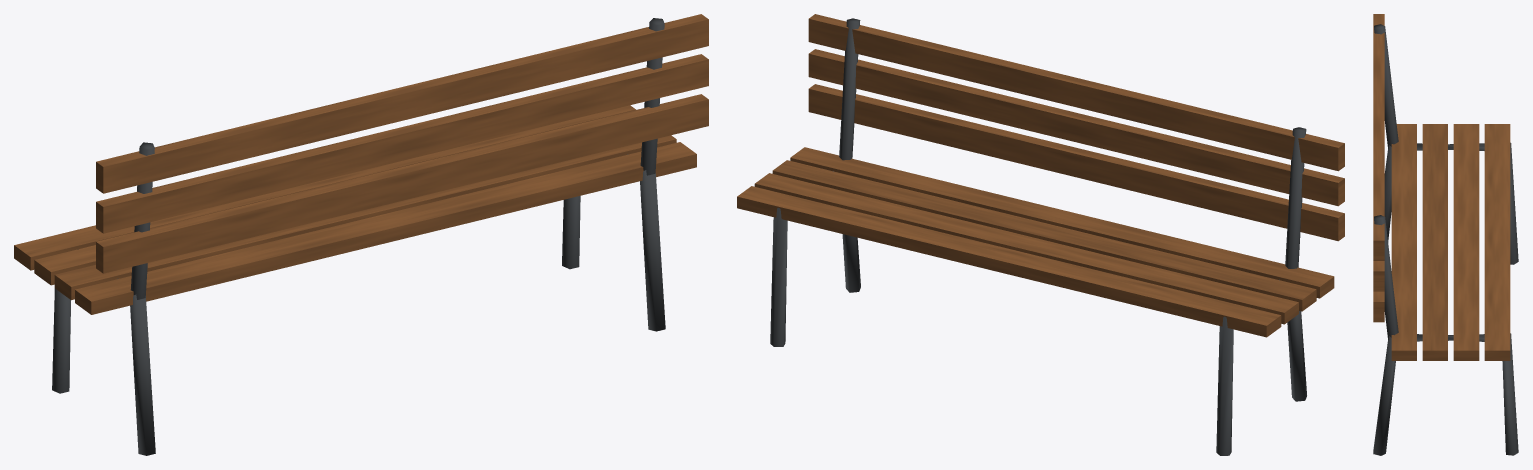
The model's file is bench.glb.
3 views of the same model, side by side, from view 1: azimuth 30°, elevation 25°; view 2: azimuth 150°, elevation 25°; view 3: azimuth 270°, elevation 25° (orthographic). The views are drawn at different scales.
Visible parts, largest first — view 1: bench; view 2: bench; view 3: bench.
Boxes of the visible parts, x1,y1,x2,y2 form: bench: (14,14,708,455); bench: (737,14,1344,455); bench: (1373,14,1518,455).
Size of the model in its own units: 1.9 by 0.9251 by 0.5151.
2 materials, 1 textured.
